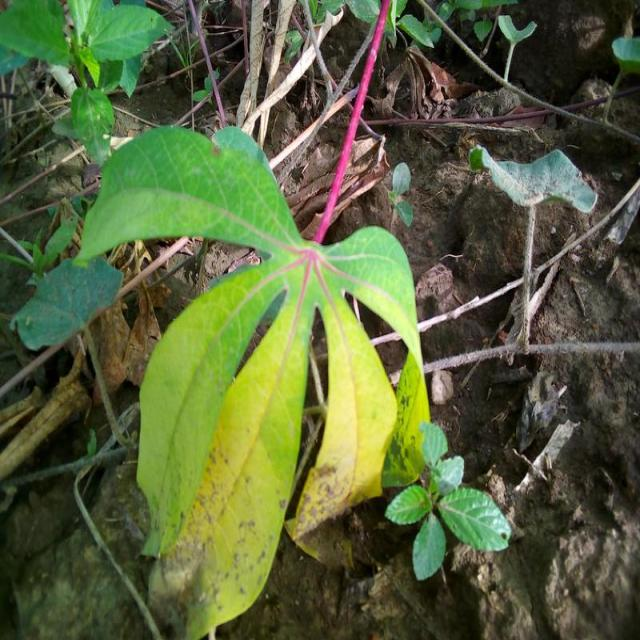cassava leaf: (74, 120, 432, 636), (10, 254, 125, 352)
